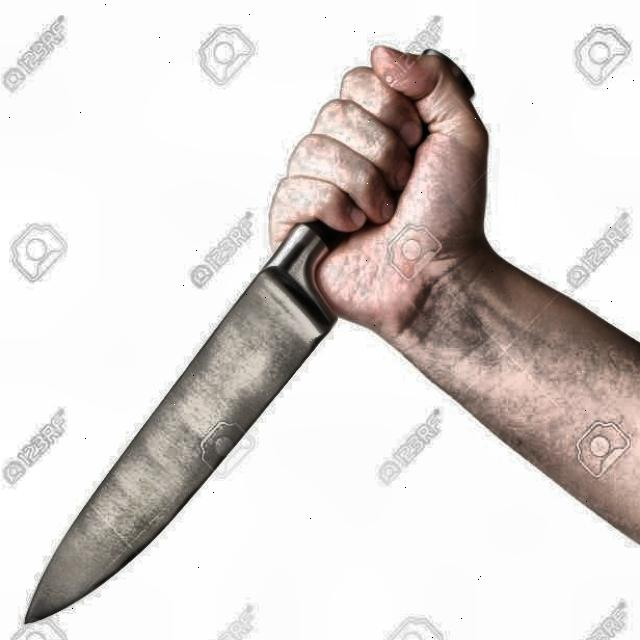knife: (26, 49, 476, 621)
